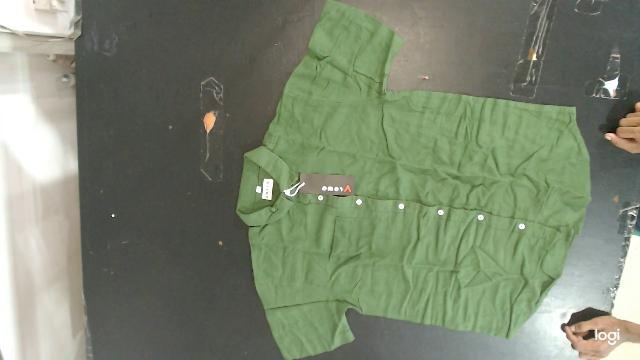new-garment: (237, 0, 590, 359)
